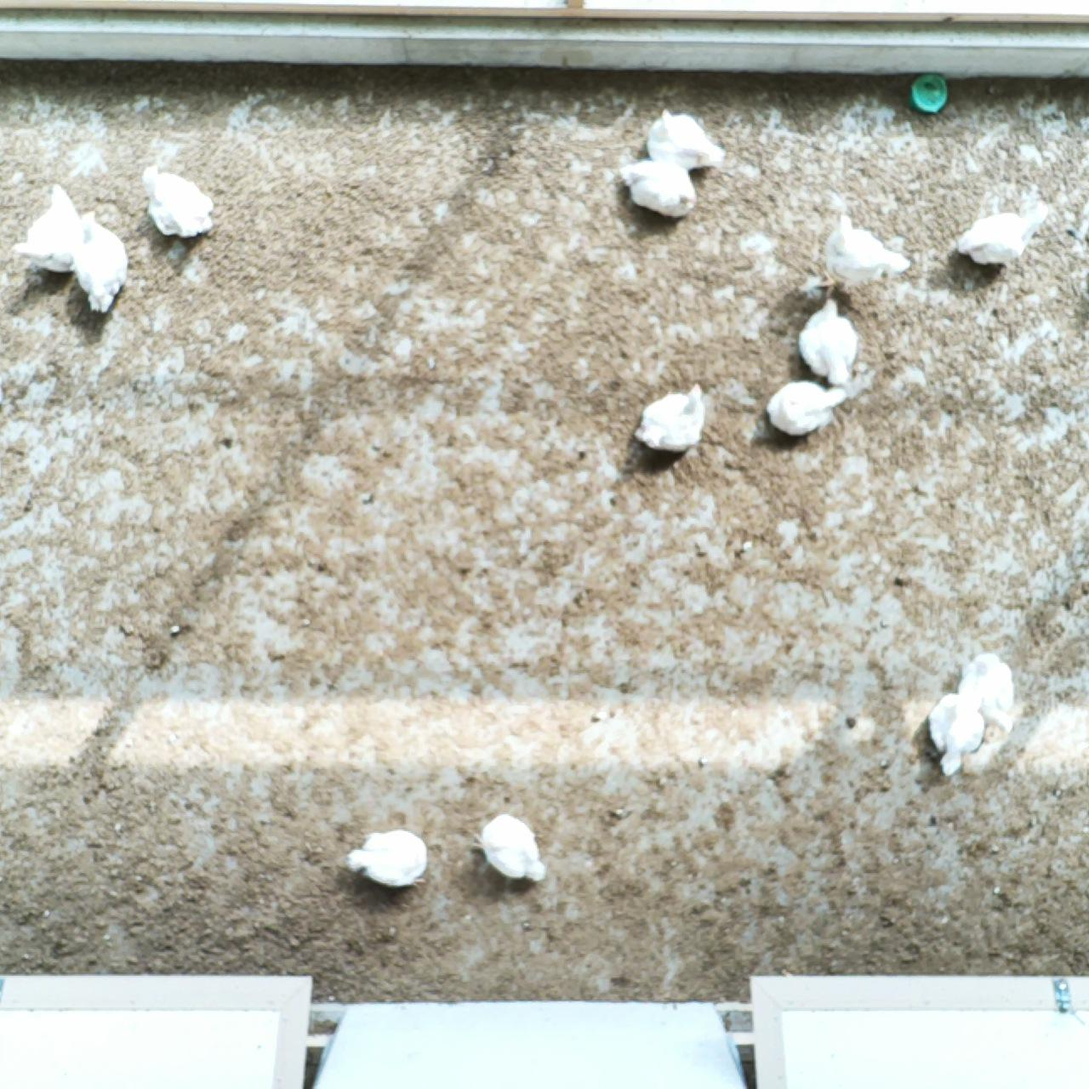chicken: (823, 213, 912, 284), (14, 182, 83, 272), (466, 812, 547, 884), (956, 205, 1045, 268), (141, 164, 216, 237), (75, 211, 128, 313), (799, 298, 860, 384), (647, 106, 727, 171), (929, 692, 987, 781), (637, 382, 708, 454), (349, 831, 430, 888), (617, 161, 698, 218), (957, 653, 1015, 730), (767, 381, 847, 436)
